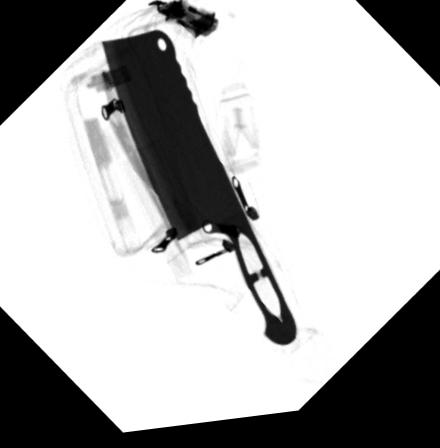Knife: (98, 30, 298, 353)
